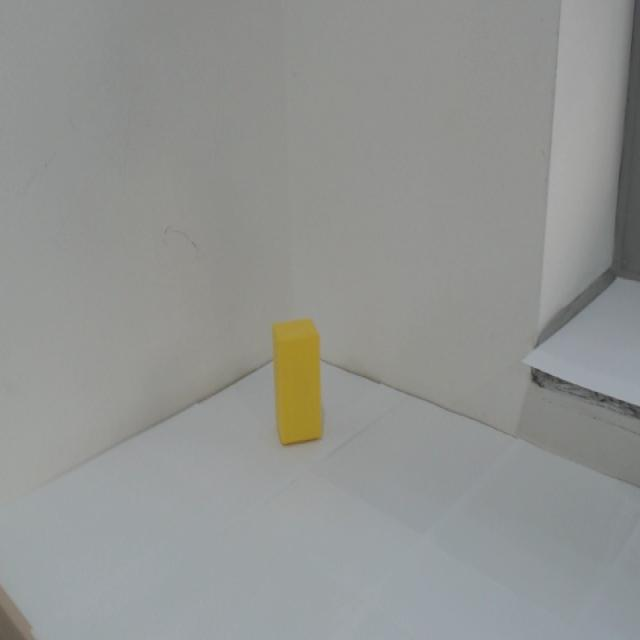cube: (266, 309, 335, 458)
